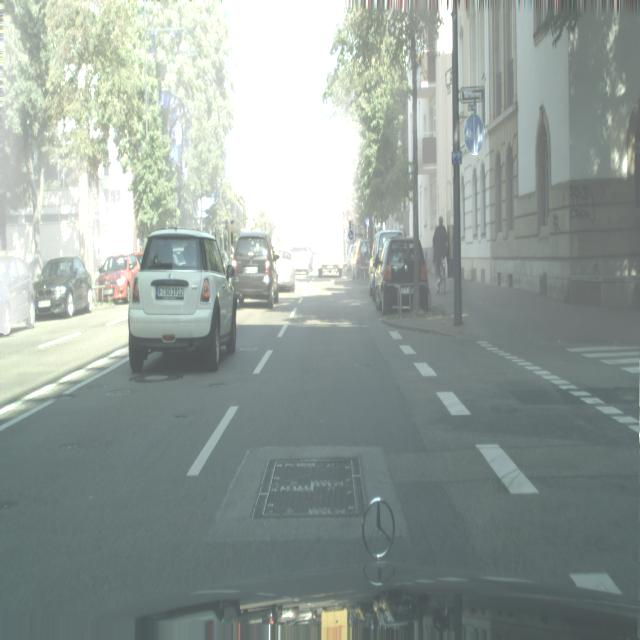car: (436, 253, 448, 294)
person: (432, 216, 448, 288)
rider: (316, 212, 344, 279)
truck: (127, 230, 238, 375), (377, 236, 430, 314), (230, 231, 280, 309), (33, 255, 93, 319), (0, 252, 36, 336), (95, 252, 142, 304), (275, 249, 296, 292), (351, 239, 371, 281), (292, 249, 310, 276)
